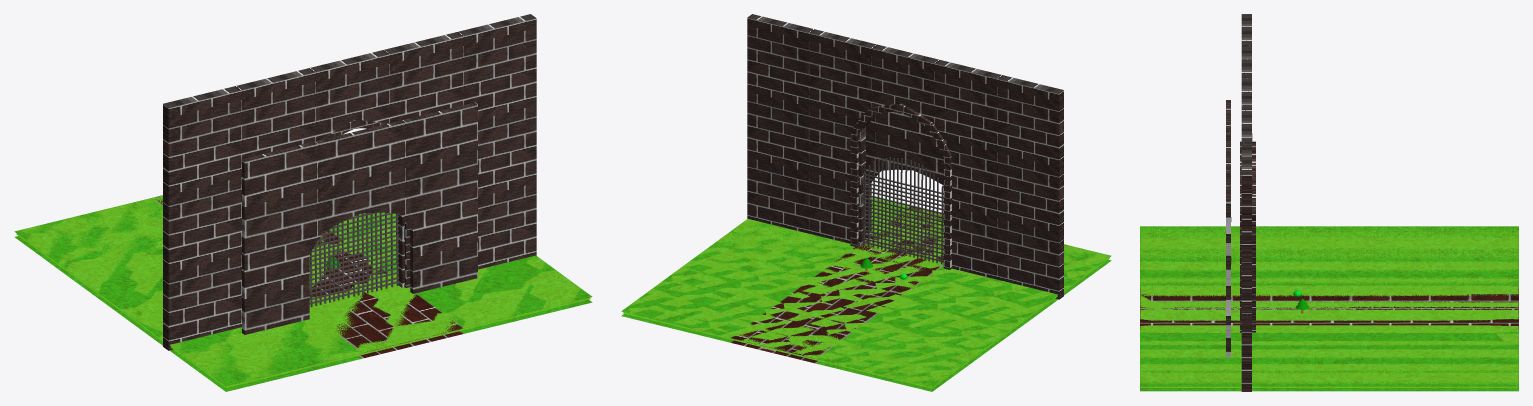
File: castle.gltf
3 views of the same model, side by side, from view 1: azimuth 30°, elevation 25°; view 2: azimuth 150°, elevation 25°; view 3: azimuth 270°, elevation 25° (orthographic). The views are drawn at different scales.
Visible parts, largest first — view 1: 立方体, 立方体.001, 平面, 平面.004, 立方体.047, 平面.005, 平面.003, 立方体.003; view 2: 立方体, 平面, 平面.004, 立方体.047, 立方体.001, 立方体.003, 平面.005, 平面.003; view 3: 平面, 平面.004, 立方体, 平面.005, 立方体.001, 立方体.003, 平面.003.
Part boxes in pixels (box(x1,y1,x2,y2)): 立方体: box(163, 14, 536, 350); 立方体.001: box(242, 102, 477, 334); 平面: box(19, 195, 580, 385); 平面.004: box(14, 195, 592, 386); 立方体.047: box(309, 212, 399, 307); 平面.005: box(14, 236, 592, 391); 平面.003: box(16, 233, 590, 387); 立方体.003: box(321, 120, 410, 287); 立方体: box(747, 14, 1063, 299); 平面: box(629, 197, 1109, 386); 平面.004: box(621, 197, 1111, 386); 立方体.047: box(862, 157, 943, 264); 立方体.001: box(866, 112, 943, 238); 立方体.003: box(850, 103, 951, 269); 平面.005: box(621, 259, 1111, 391); 平面.003: box(622, 257, 1109, 388); 平面: box(1140, 226, 1518, 385); 平面.004: box(1140, 226, 1518, 386); 立方体: box(1241, 14, 1252, 391); 平面.005: box(1140, 386, 1518, 391); 立方体.001: box(1226, 100, 1231, 357); 立方体.003: box(1240, 141, 1255, 332); 平面.003: box(1141, 386, 1517, 387).
Bounding box in the file's own units: 74.2 × 51.37 × 74.
